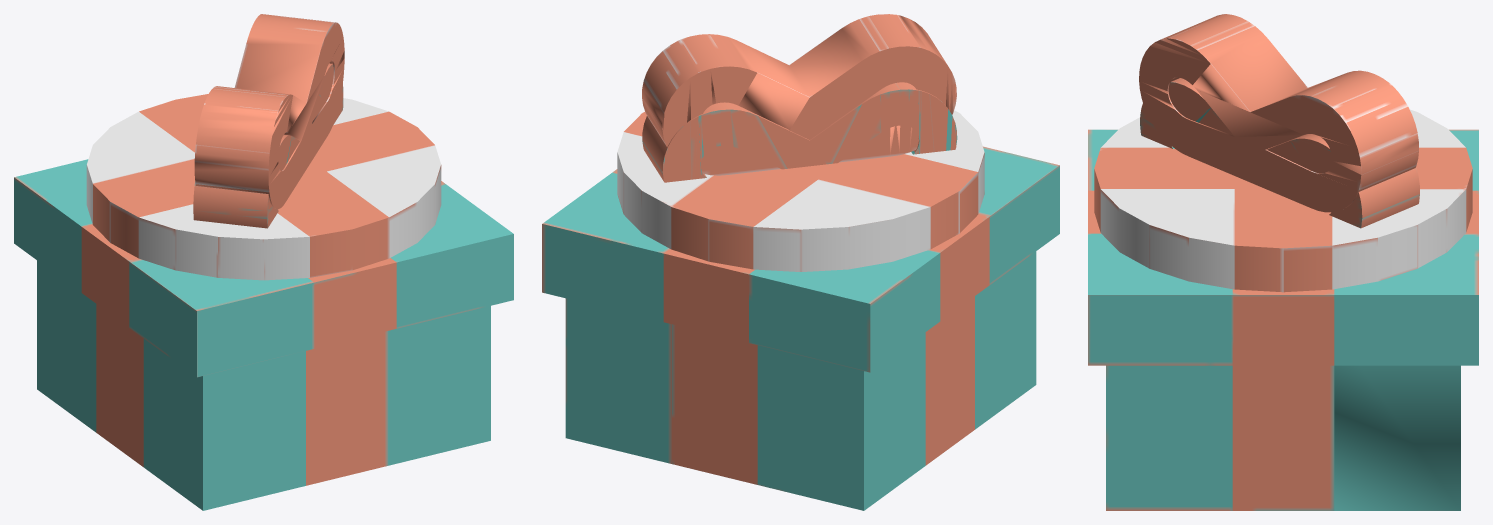
Rendered from presents2.glb.
The picture shows the model from 3 angles, left to right: view 1: azimuth 30°, elevation 25°; view 2: azimuth 150°, elevation 25°; view 3: azimuth 270°, elevation 25°; orthographic projection. The views are drawn at different scales.
Parts seen in each view (by area): view 1: presentGreen, presentRoundRebuild; view 2: presentGreen, presentRoundRebuild; view 3: presentGreen, presentRoundRebuild.
Boxes of the visible parts, x1,y1,x2,y2 form: presentGreen: (14,63,513,510); presentRoundRebuild: (86,14,441,280); presentGreen: (542,82,1059,510); presentRoundRebuild: (617,14,984,271); presentGreen: (1088,78,1478,510); presentRoundRebuild: (1094,14,1472,292).
Size of the model in its own units: 0.3727 by 0.3997 by 0.3727.
2 materials, 2 textured.
